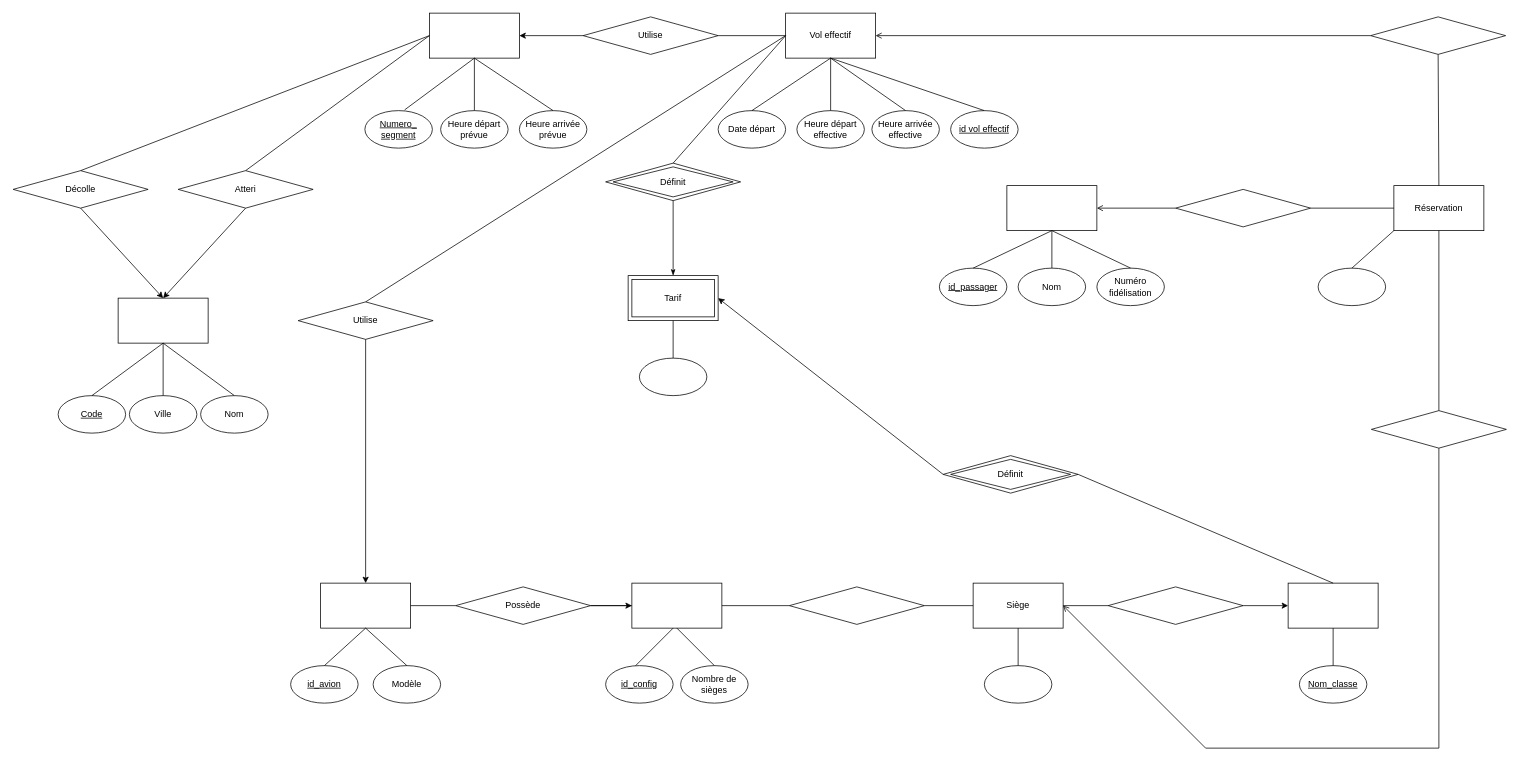
Some shapes in this 1520 by 767 pixel diagram are drawn without their labels. The centre of each missing label's shape, as x and y in pixels:
"Appartient" belongs at pixel 1175 605.
"Avion" belongs at pixel 365 605.
"Aéroport" belongs at pixel 162 320.
"Classe tarifaire" belongs at pixel 1332 605.
"Concerne" belongs at pixel 1438 35.
"Configuration" belongs at pixel 676 605.
"Contient" belongs at pixel 856 605.
"Effectue" belongs at pixel 1243 208.
"id_reservation" belongs at pixel 1351 286.
"Montant" belongs at pixel 673 376.
"Numero_siege" belongs at pixel 1018 684.
"Passager" belongs at pixel 1051 208.
"Porte sur" belongs at pixel 1438 429.
"Segment de vol" belongs at pixel 474 35.
